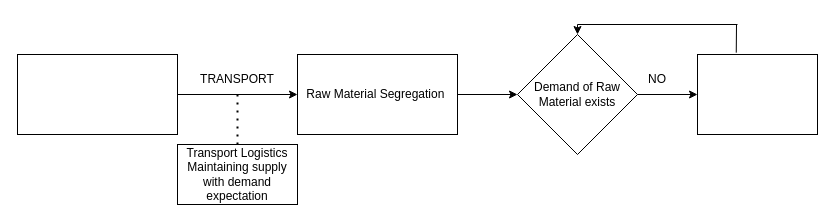
The diagram is 835 pixels wide and 222 high, and some of its shapes have lost their labels. The centre of each missing label's shape, as x and y in pixels:
Gathering Raw Material (Rice Straw/Wheat Straw/Sugarcane Leaves): the point at 97,94
Storage: the point at 757,94
